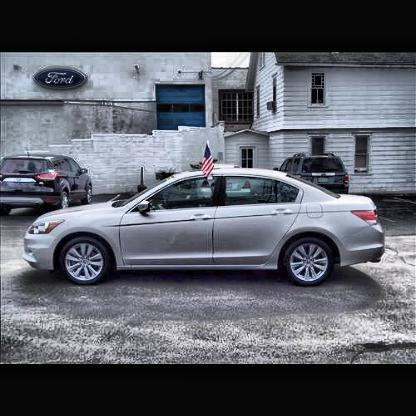Honda Accord Sedan 2012: (22, 167, 387, 289)
